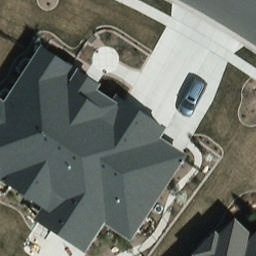car: (176, 79, 207, 118)
